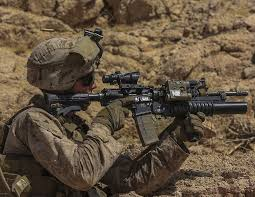gun: (43, 68, 249, 146)
